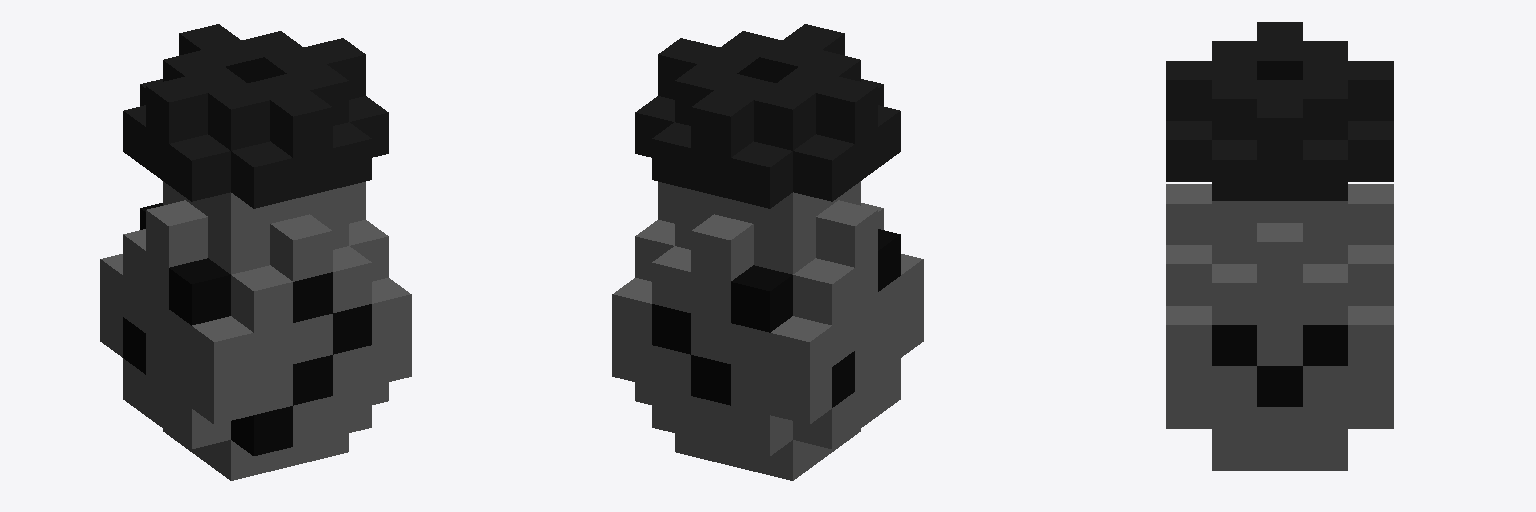
The picture shows the model from 3 angles: view 1: azimuth 30°, elevation 25°; view 2: azimuth 150°, elevation 25°; view 3: azimuth 270°, elevation 25°; orthographic projection.
Visible parts, largest first — view 1: ObjObject.002; view 2: ObjObject.002; view 3: ObjObject.002.
Part boxes in pixels (x1,y1,x2,y2): ObjObject.002: (100, 24, 411, 480); ObjObject.002: (612, 24, 923, 480); ObjObject.002: (1166, 22, 1393, 470).
Bounding box in the file's own units: 0.5 × 0.9 × 0.5.
Materials: 1 (1 with a texture image).